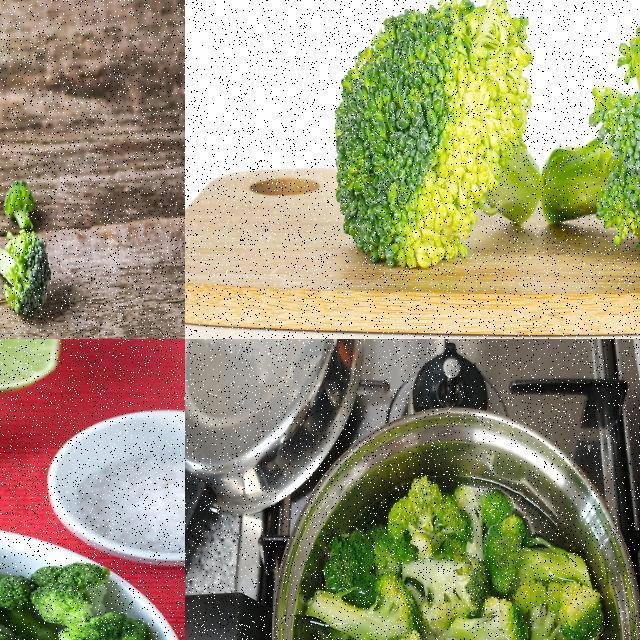broccoli: (331, 0, 543, 285), (539, 7, 639, 263), (477, 518, 602, 595), (307, 580, 428, 639), (27, 566, 114, 640), (0, 229, 55, 329), (449, 598, 521, 639)
